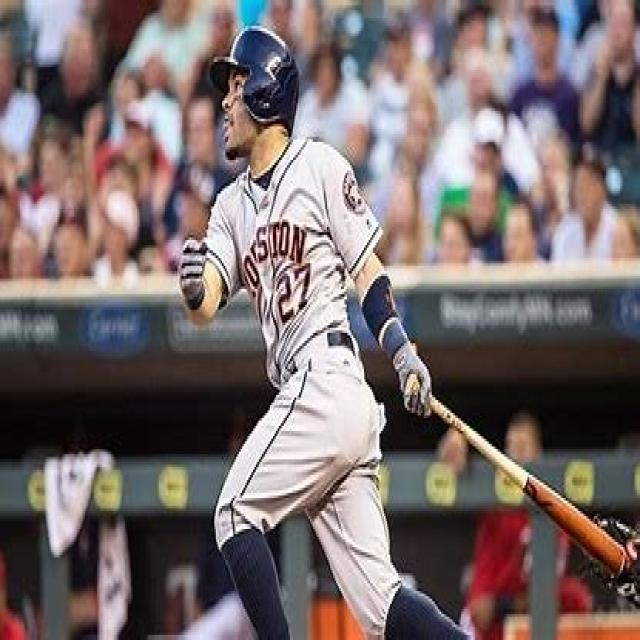bat: (402, 366, 632, 582)
